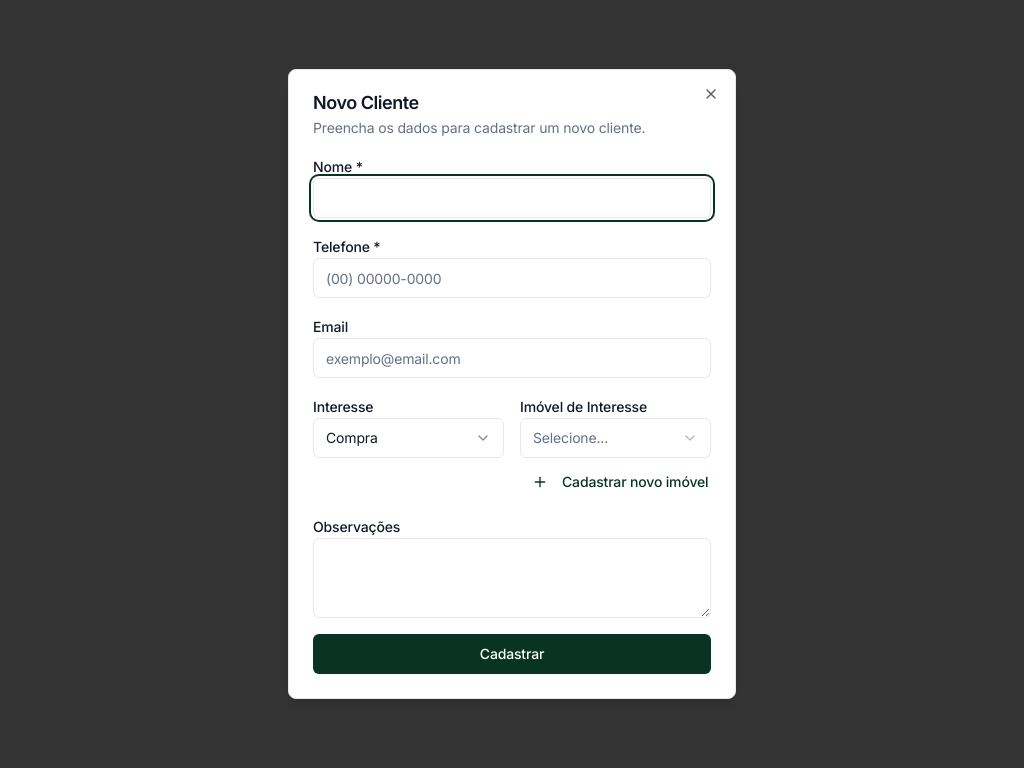
corrigir o telefone libera o cadastro de novo
The width and height of the screenshot is (1024, 768).
Type "Ana" into the 1st field at (512, 198), box x1=313 y1=178 x2=711 y2=218
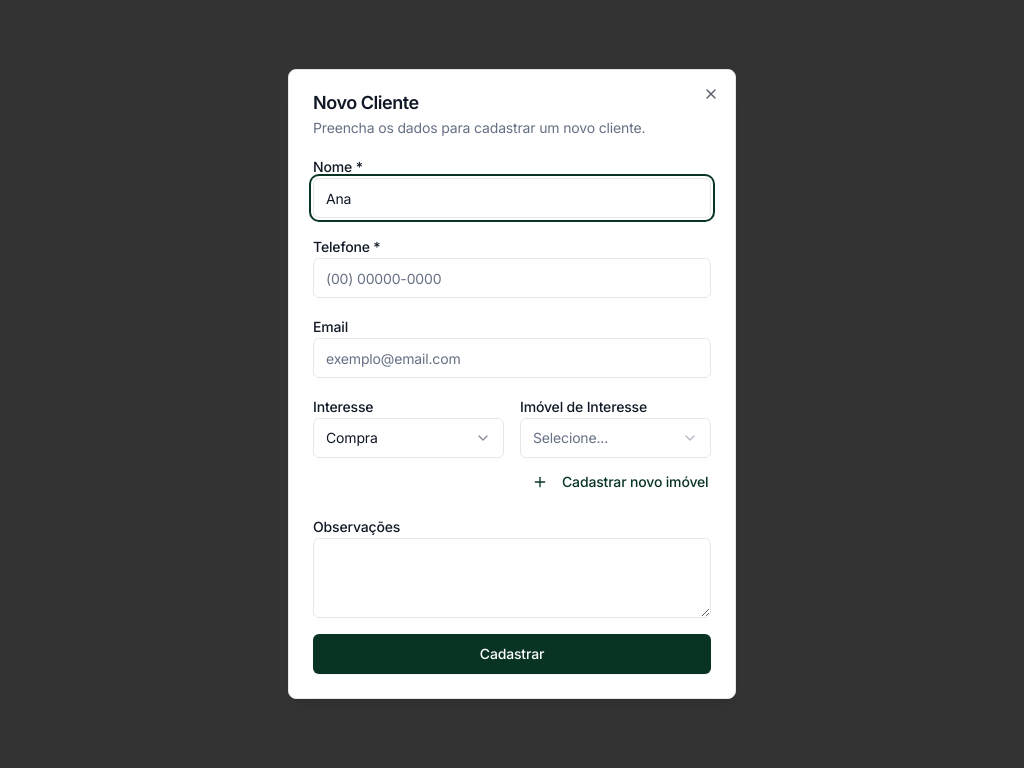
Type "62911110002" into the field with placeholder "(00) 00000-0000" at (512, 278), box x1=313 y1=258 x2=711 y2=298
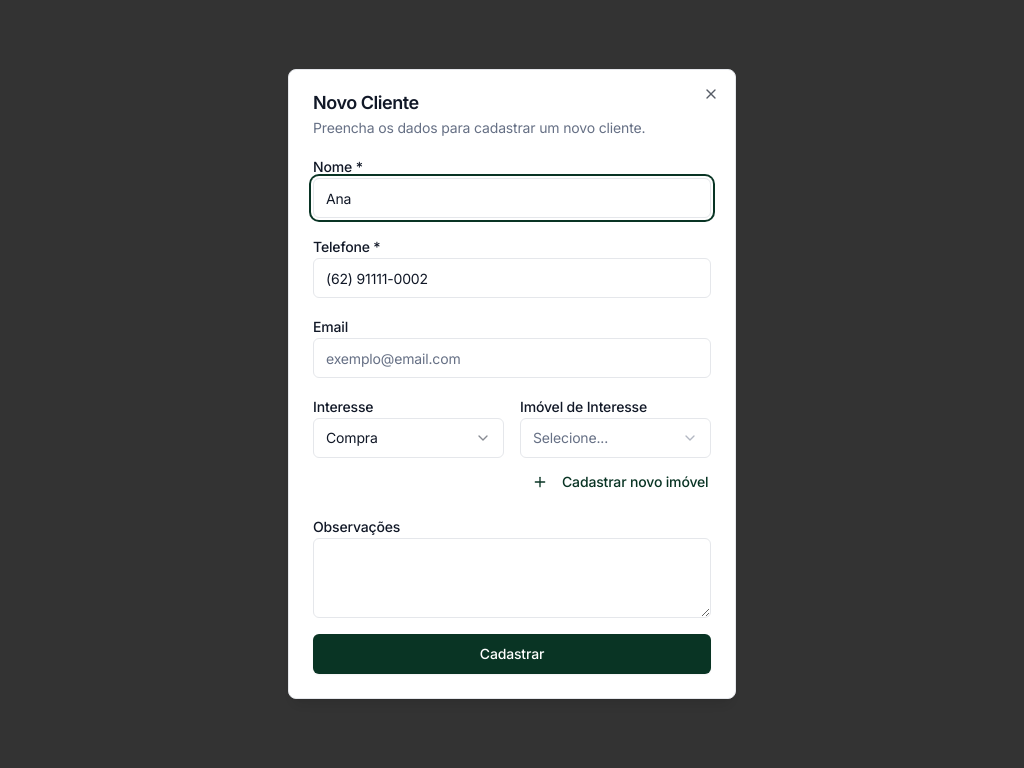
Click the button "Cadastrar" at (512, 654), box x1=313 y1=634 x2=711 y2=674
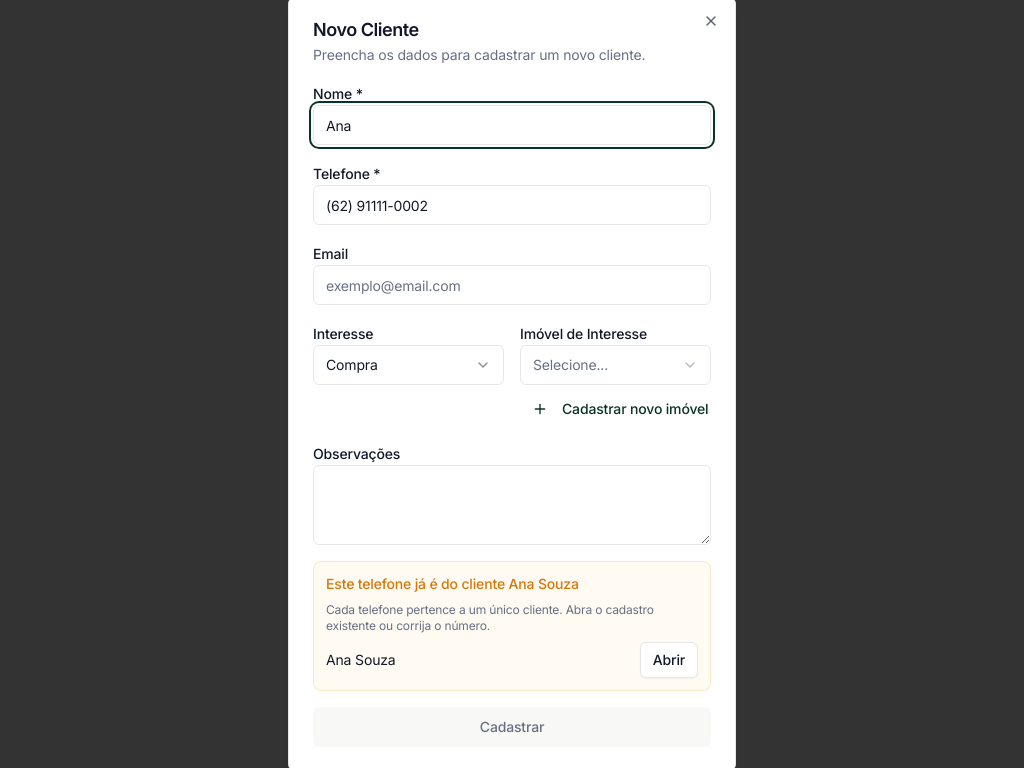
Expected: the message is shown, x1=313 y1=561 x2=711 y2=691
Replace the text in the field below "Telefone *" with "62922220003" at (512, 205), box x1=313 y1=185 x2=711 y2=225
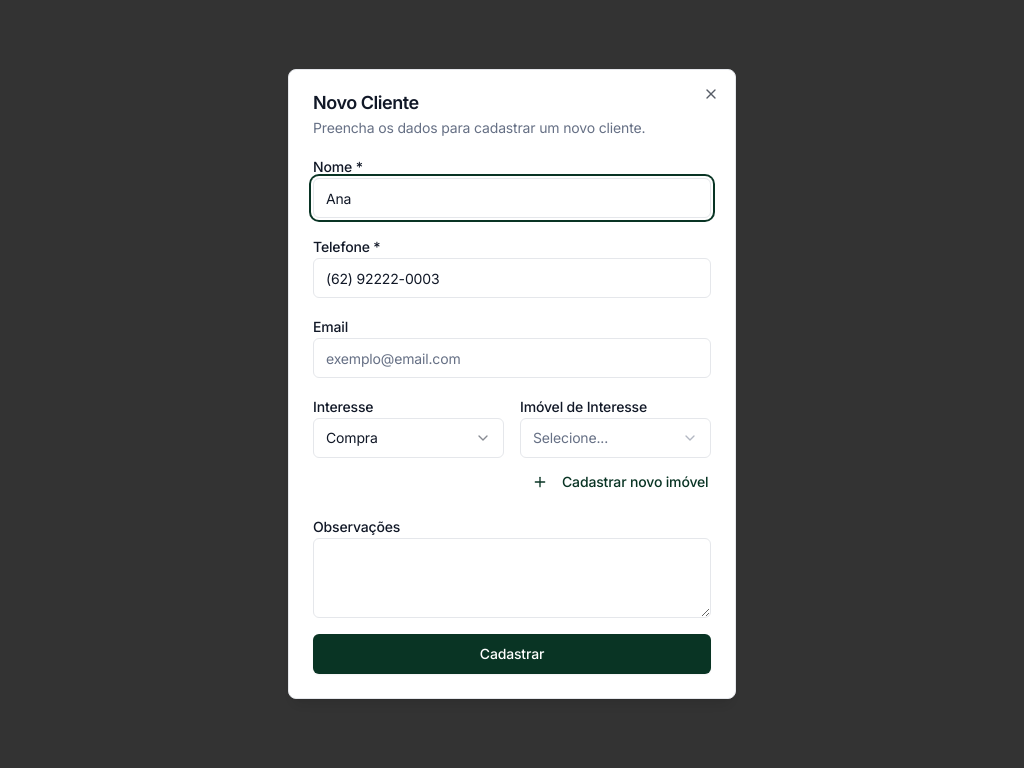
Expected: the message is gone
Expected: the button "Cadastrar" is enabled, x1=313 y1=634 x2=711 y2=674
